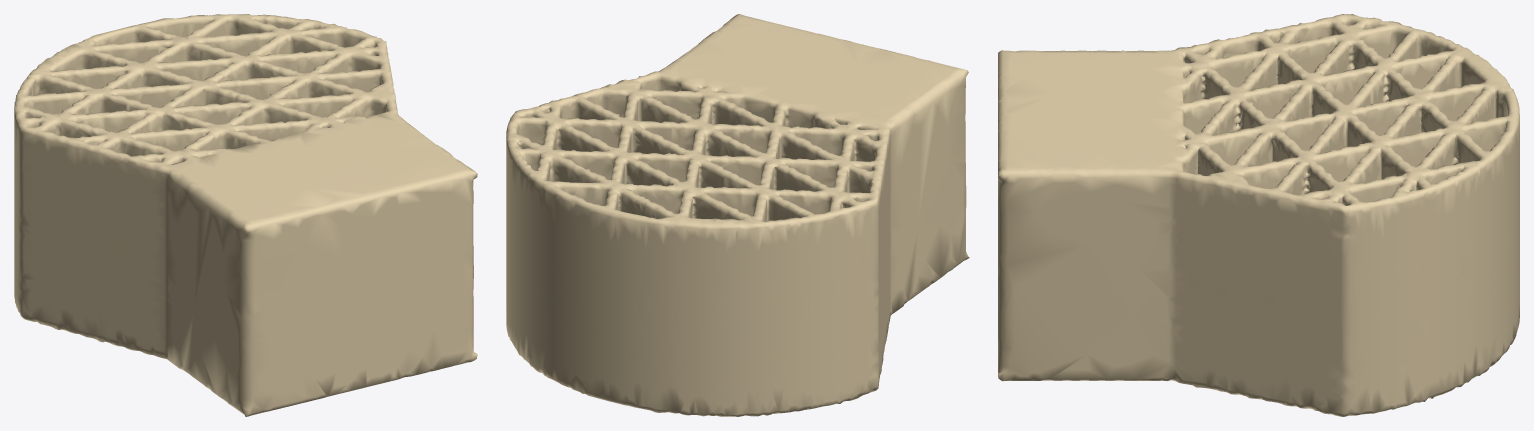
Rendered from ollie-paw-shape-075.glb.
3 renders of one model, left to right at view 1: azimuth 30°, elevation 25°; view 2: azimuth 150°, elevation 25°; view 3: azimuth 270°, elevation 25°, orthographic. The views are drawn at different scales.
Parts seen in each view (by area): view 1: world; view 2: world; view 3: world.
Boxes of the visible parts, box(x1,y1,x2,y2) form: world: box(14, 14, 477, 416); world: box(506, 14, 969, 416); world: box(998, 14, 1519, 416).
Bounding box in the file's own units: 39.97 × 20 × 45.
